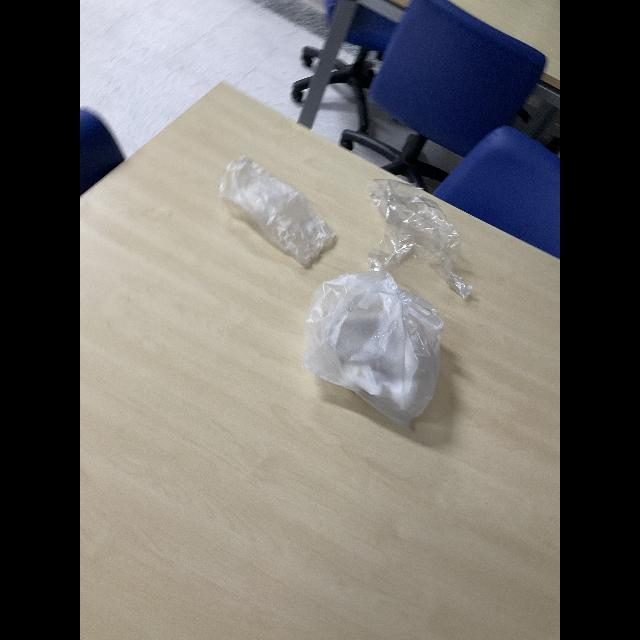plastic_bag: (306, 244, 468, 444)
scrap_plastic: (204, 151, 340, 273), (366, 174, 480, 306)
